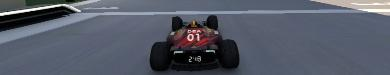Car: (148, 15, 239, 71)
curve: (0, 0, 389, 74)
